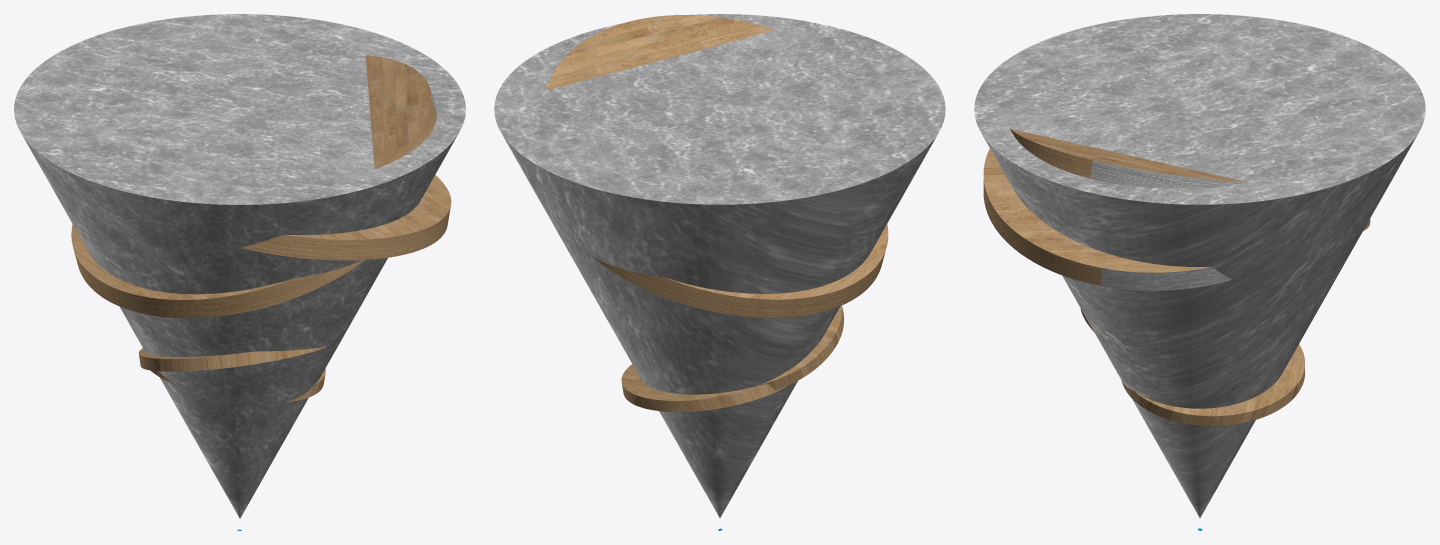
File: betterTornado.gltf
3 renders of one model, left to right at view 1: azimuth 30°, elevation 25°; view 2: azimuth 150°, elevation 25°; view 3: azimuth 270°, elevation 25°, orthographic.
Size of the model in its own units: 2.01 by 2.15 by 2.01.
Materials: 3 (2 with a texture image).
